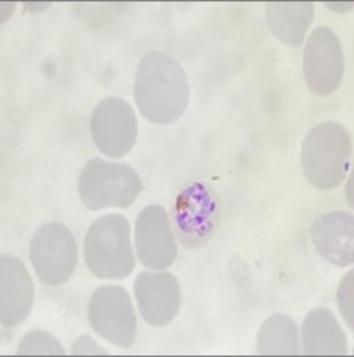Infected: (174, 178, 220, 235)
Uninfected: (132, 48, 189, 123), (79, 159, 145, 211), (301, 121, 351, 187), (28, 219, 77, 286), (86, 214, 133, 283), (91, 94, 139, 157), (301, 27, 345, 94), (87, 285, 134, 346), (133, 203, 177, 266), (132, 268, 180, 324), (312, 212, 354, 269), (265, 0, 313, 47), (301, 307, 346, 357), (255, 312, 305, 357)
